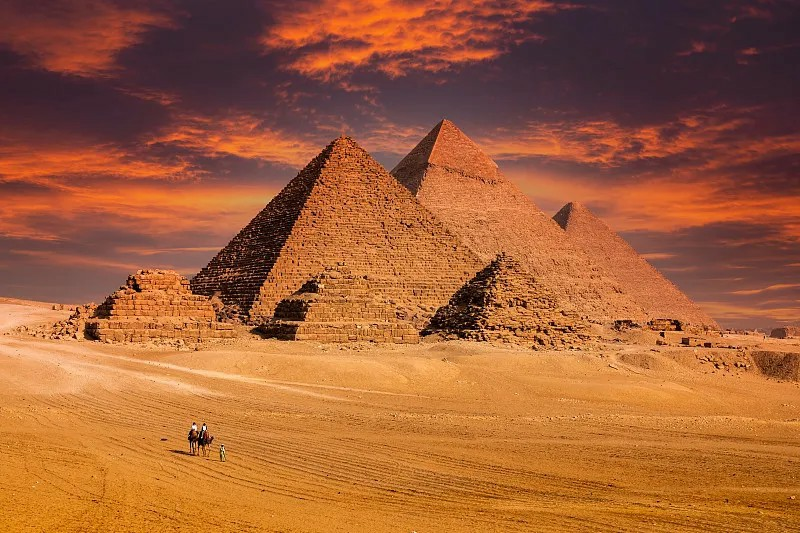Pyramid: (190, 137, 485, 327), (388, 119, 651, 327), (552, 202, 721, 330), (418, 253, 598, 344), (253, 267, 419, 344), (85, 270, 241, 344)
